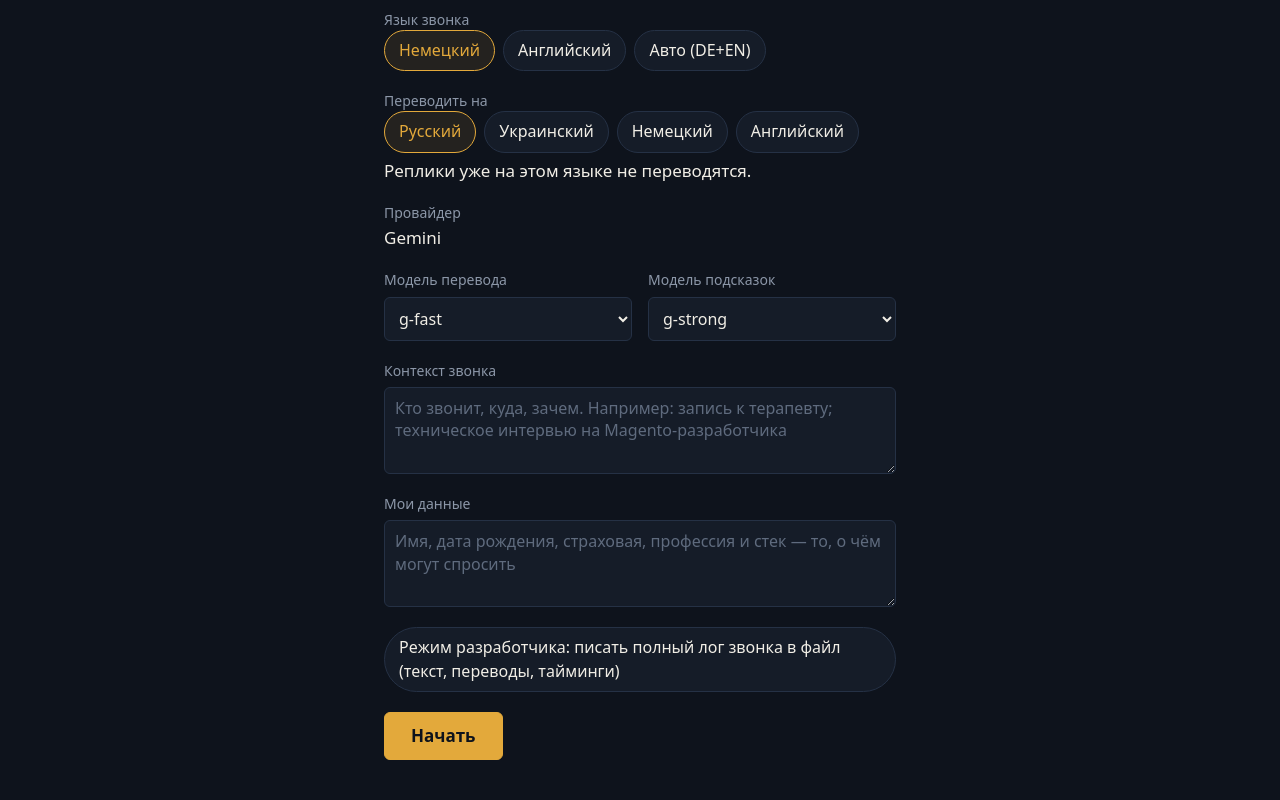
review fixes › allows another try after a failed start
(page scrolled)
Click the button "Начать" at point(443, 736), box x1=384 y1=712 x2=502 y2=760
(page scrolled)
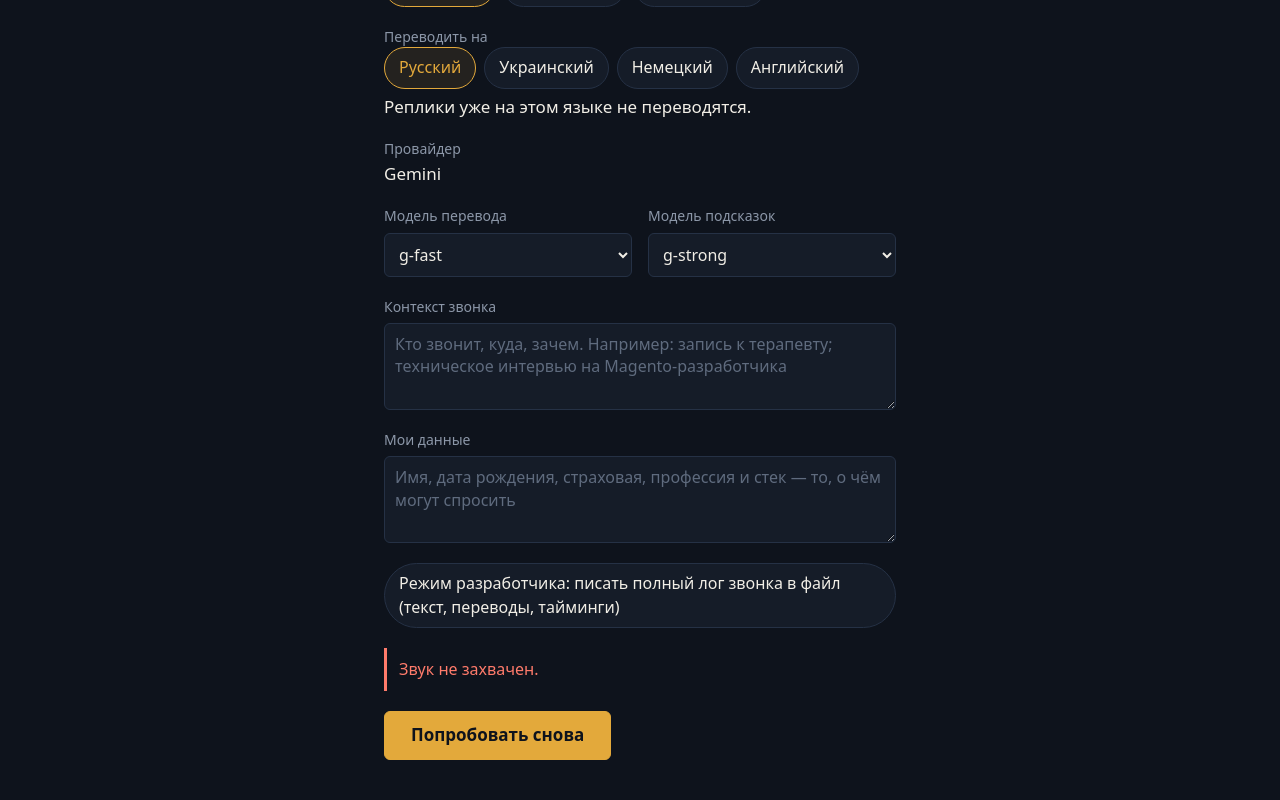
Click the button "Попробовать снова" at point(498, 735), box x1=384 y1=711 x2=611 y2=760
(page scrolled)
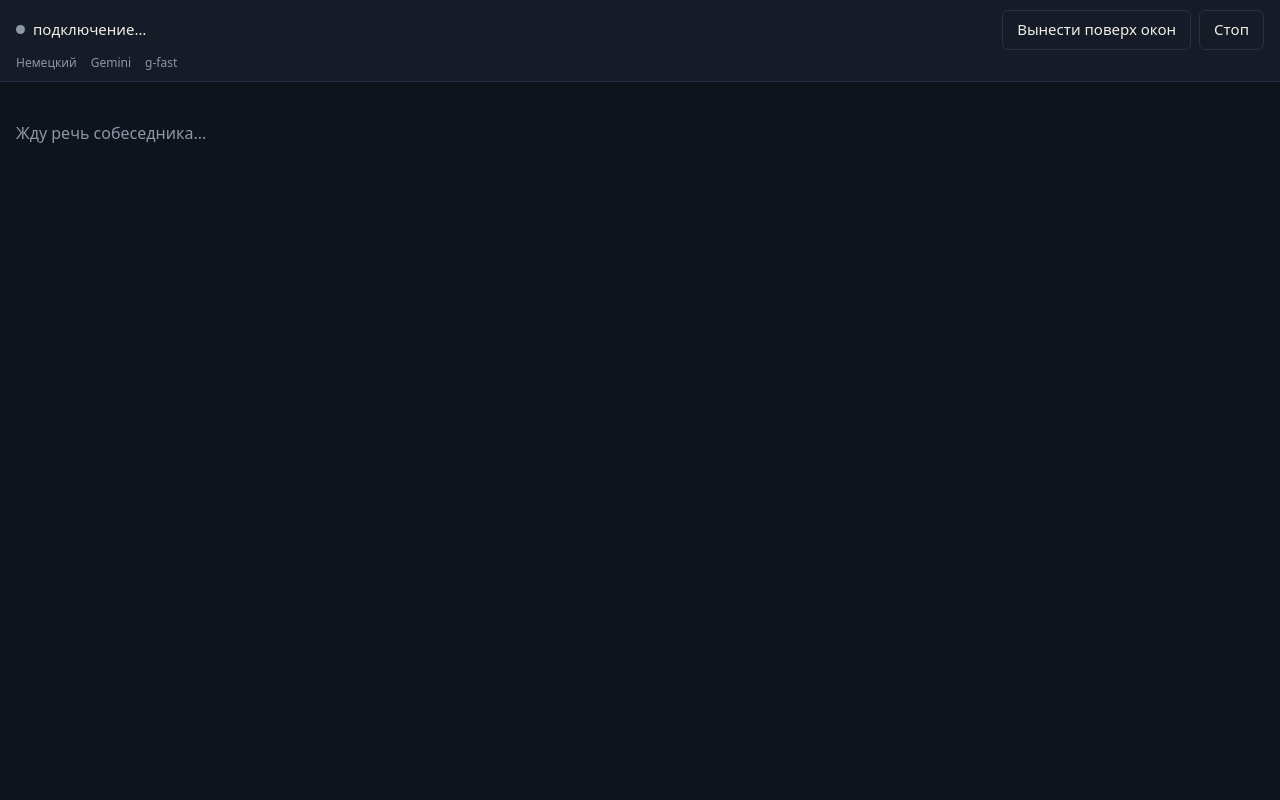
Now the button "Стоп" is shown, box x1=1199 y1=10 x2=1264 y2=50
